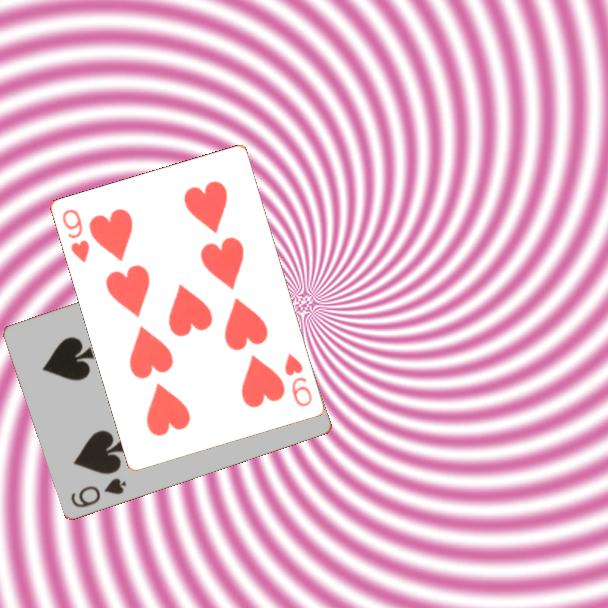h09: (59, 205, 93, 266), (281, 350, 315, 410)
s06: (67, 474, 130, 510)
